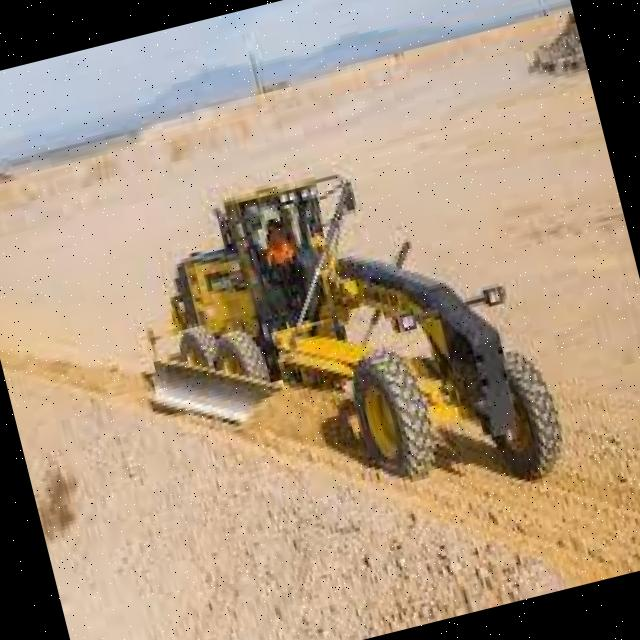Grader: (84, 105, 579, 579)
